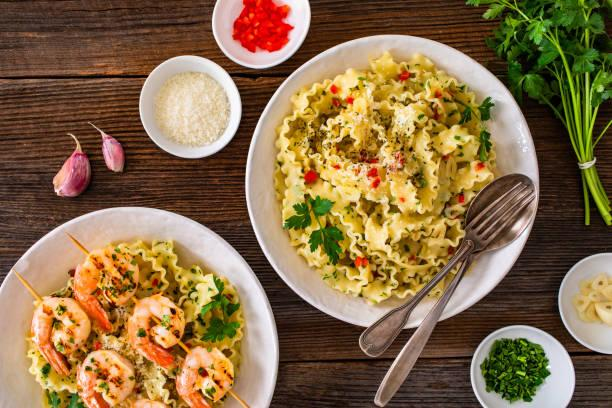Braised Crucian Carp: (246, 34, 535, 333), (2, 205, 279, 408)
